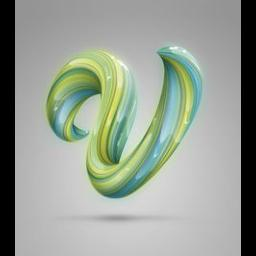v: (42, 42, 202, 204)
